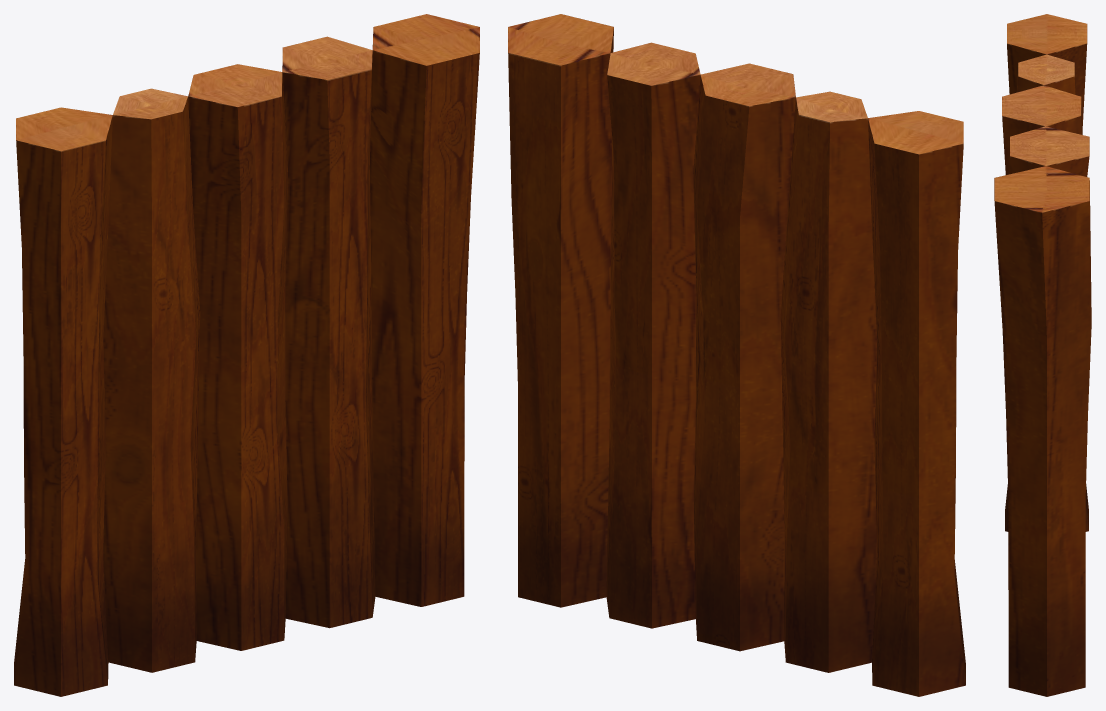
Rendered from Wall_Wood_2.fbx.
3 renders of one model, left to right at view 1: azimuth 30°, elevation 25°; view 2: azimuth 150°, elevation 25°; view 3: azimuth 270°, elevation 25°, orthographic. The views are drawn at different scales.
Parts seen in each view (by area): view 1: Wall_Wood_2; view 2: Wall_Wood_2; view 3: Wall_Wood_2.
Boxes of the visible parts, x1=… form: Wall_Wood_2: x1=14, y1=14, x2=479, y2=696; Wall_Wood_2: x1=508, y1=14, x2=965, y2=696; Wall_Wood_2: x1=994, y1=14, x2=1091, y2=696.
Bounding box in the file's own units: 1.85 × 2.1 × 0.3754.
